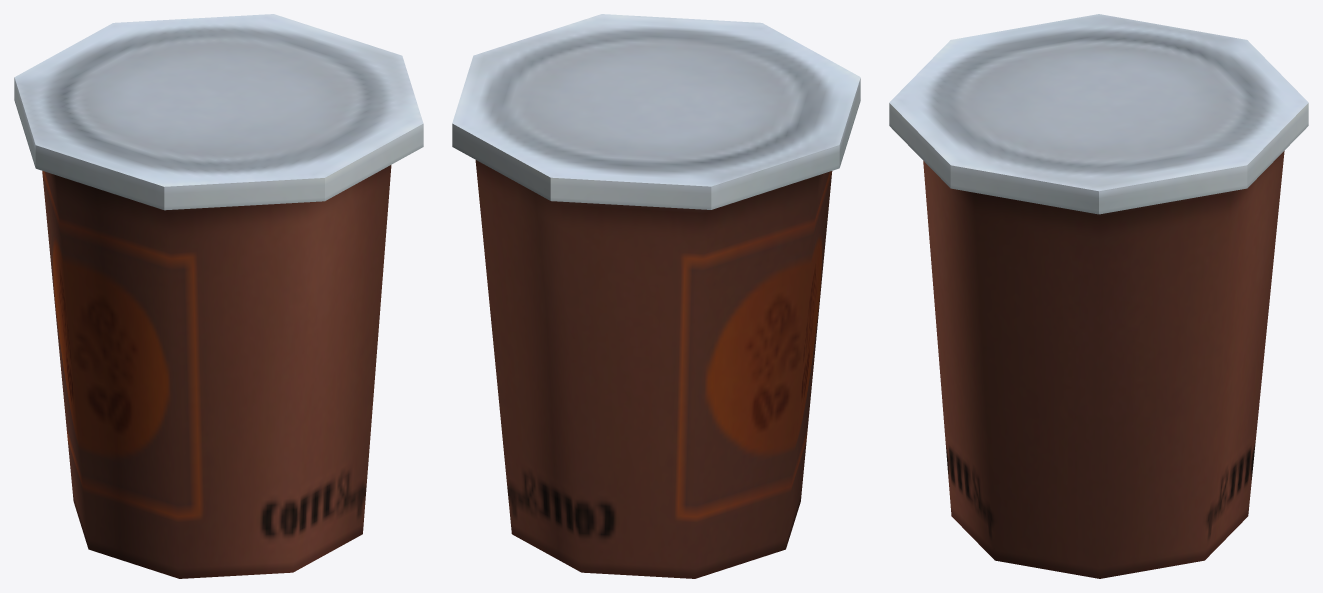
The model's file is WuZhengDiaoChaKe_01_zhibei_01_UV2.FBX.
The picture shows the model from 3 angles, left to right: view 1: azimuth 30°, elevation 25°; view 2: azimuth 150°, elevation 25°; view 3: azimuth 270°, elevation 25°; orthographic projection.
Visible parts, largest first — view 1: WuZhengDiaoChaKe_01_zhibei_01_UV2; view 2: WuZhengDiaoChaKe_01_zhibei_01_UV2; view 3: WuZhengDiaoChaKe_01_zhibei_01_UV2.
Boxes of the visible parts, box(x1,y1,x2,y2) form: WuZhengDiaoChaKe_01_zhibei_01_UV2: box(14, 14, 423, 578); WuZhengDiaoChaKe_01_zhibei_01_UV2: box(452, 14, 860, 578); WuZhengDiaoChaKe_01_zhibei_01_UV2: box(889, 14, 1308, 578).
Size of the model in its own units: 65.39 by 71.16 by 65.39.
